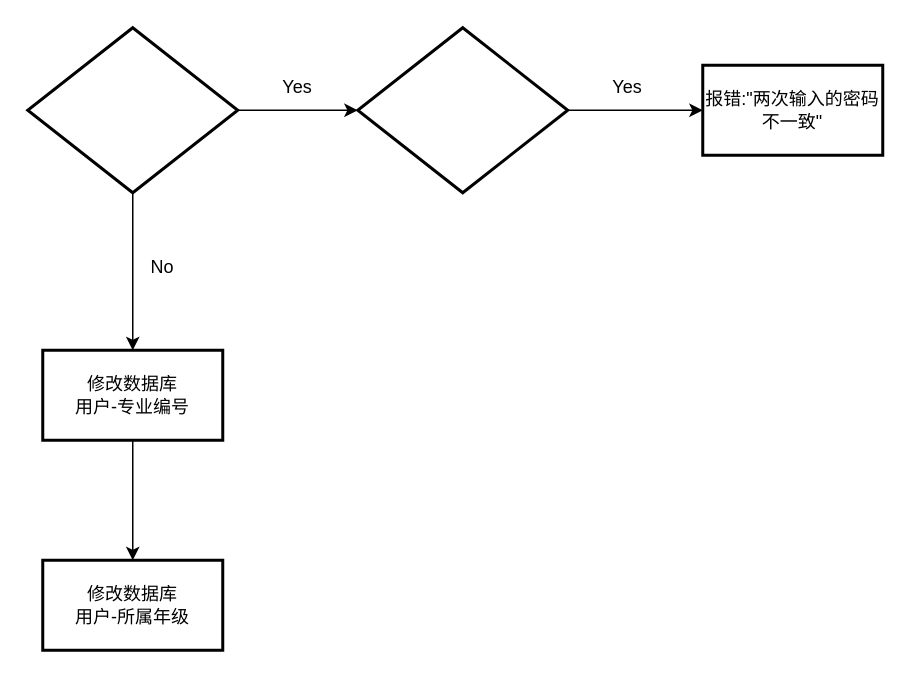
This 909x677 diagram has some shape labels left out. Each missing label, with the box of its shape:
新密码!=重复密码: (356, 26, 568, 194)
新密码为空 or 重复密码不为空: (26, 26, 238, 194)
